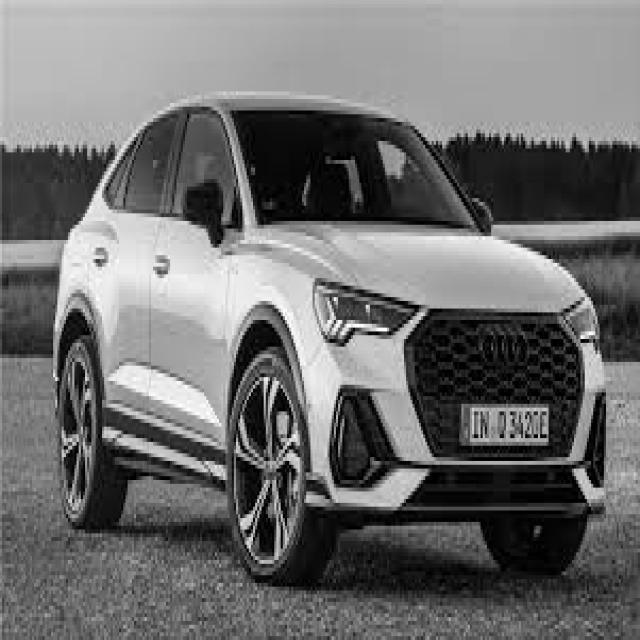Car: (52, 99, 606, 583)
